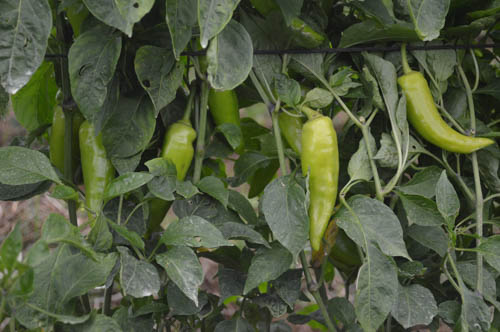ChiliPepper: (396, 72, 493, 160), (297, 118, 341, 252), (145, 124, 199, 228), (76, 120, 116, 229), (207, 90, 247, 151), (45, 109, 77, 176)
